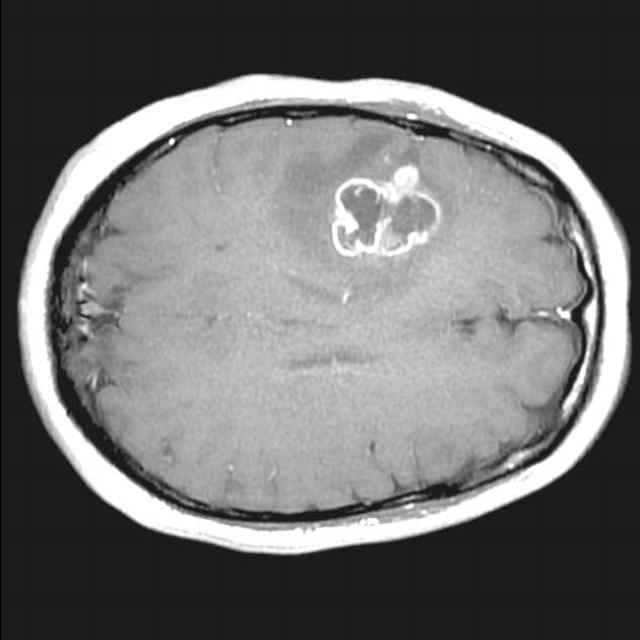tumor: (326, 167, 440, 260)
